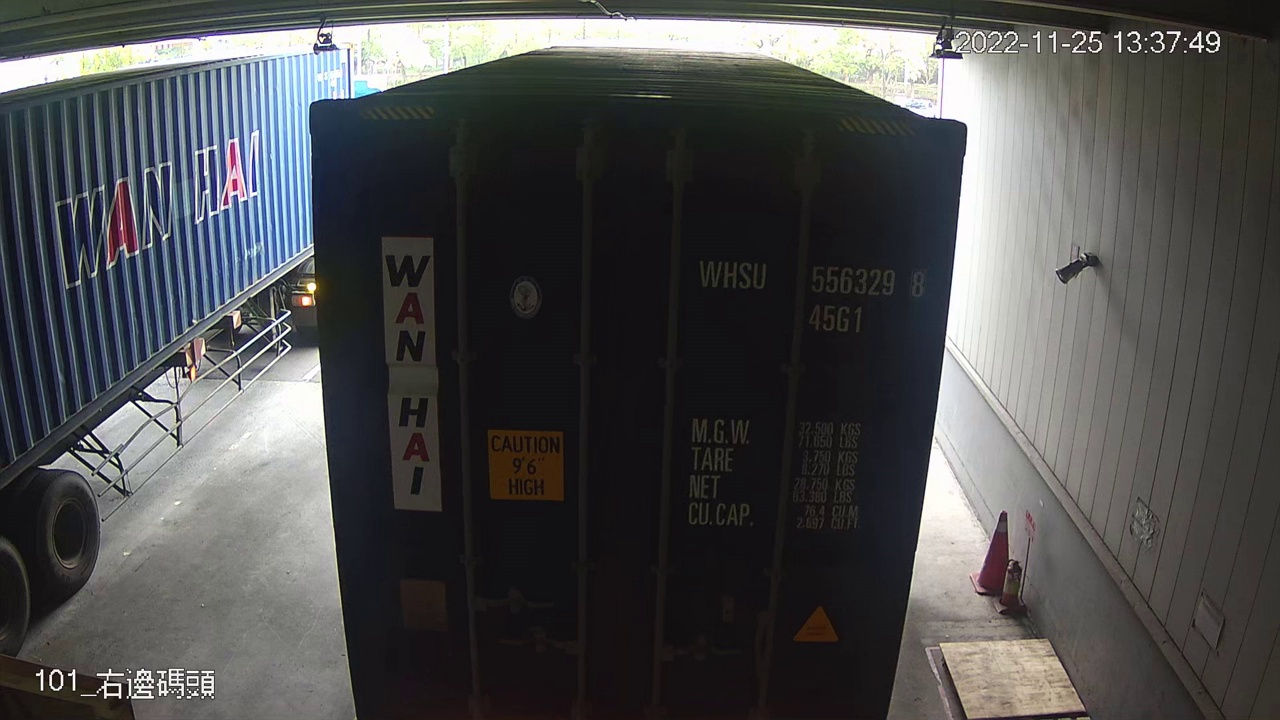container: (691, 246, 931, 344)
